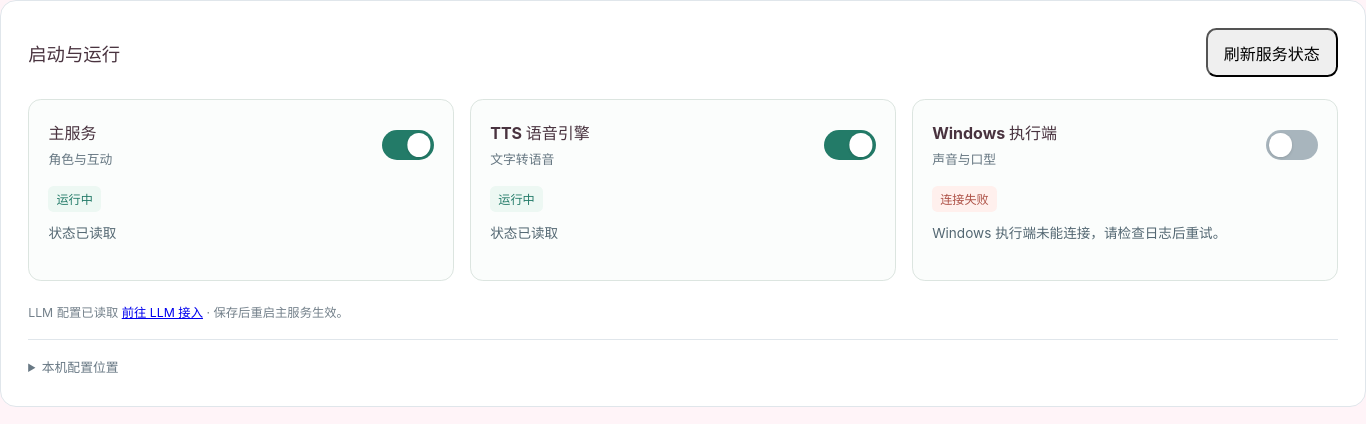
Test: shows Windows startup failures and allows retrying the connection
Check: the message shows "Windows 执行端未能连接", box top-left (932, 225), bottom-right (1226, 241)
Click the switch named "Windows 执行端" at (1292, 145), box top-left (1266, 130), bottom-right (1318, 160)
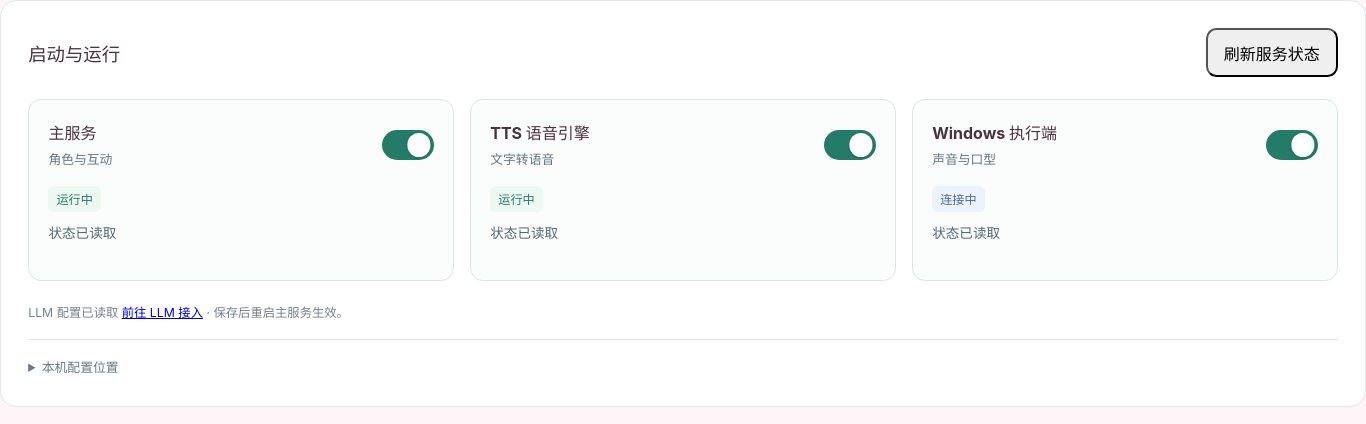
Check: the text "连接中" is shown, box top-left (932, 186), bottom-right (985, 212)
